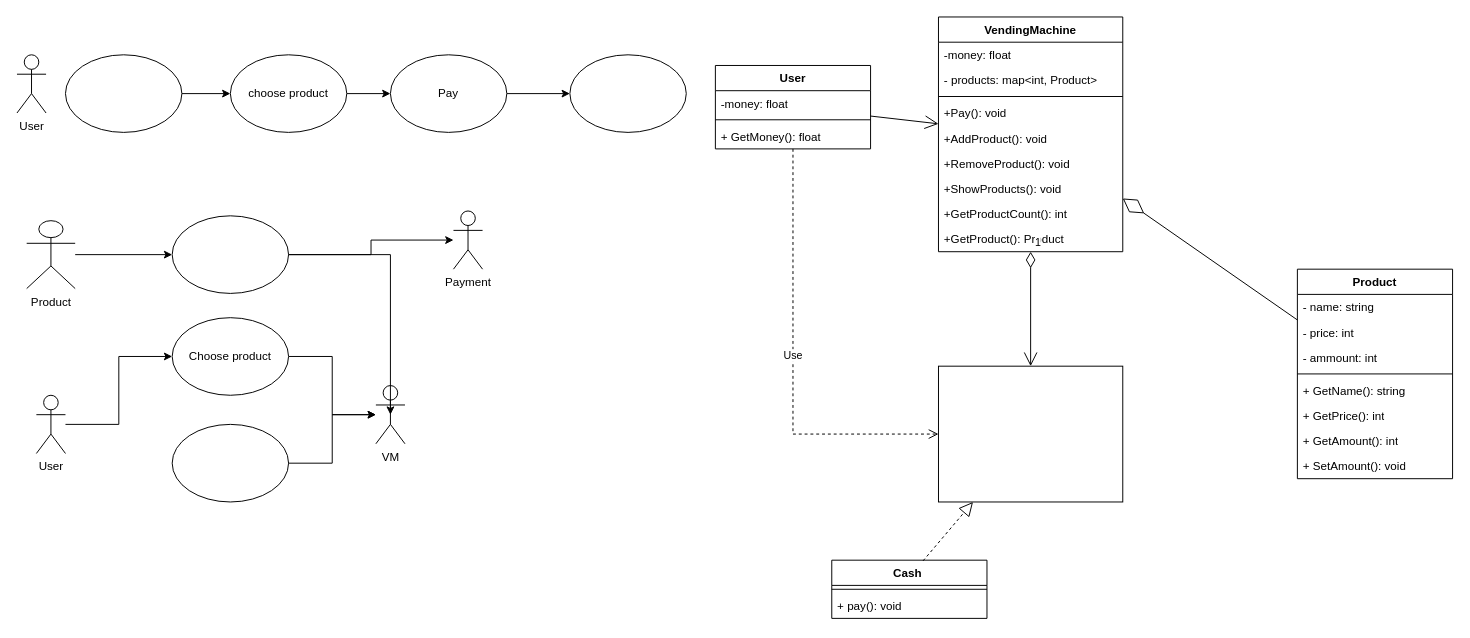
Some shapes in this 1470 by 638 pixel diagram are drawn without their labels. Here are the shapes that lost their labels. From the top down, the centre of each, then its label:
At (x=123, y=93): "see products".
At (x=627, y=93): "recieve product".
At (x=230, y=254): "Collect Payment".
At (x=1030, y=433): "<<Interface>> Payment + Pay(): virtual void".
At (x=230, y=462): "Add Product".
